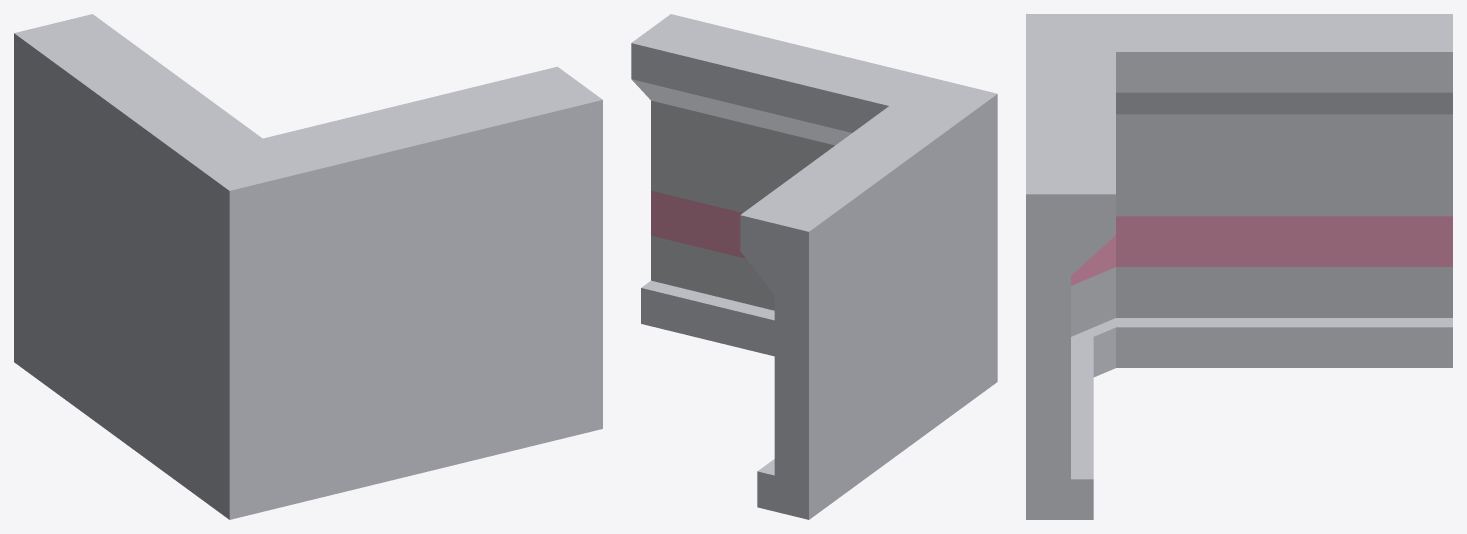
The model's file is space-station-kit--object-009.glb.
3 views of the same model, side by side, from view 1: azimuth 30°, elevation 25°; view 2: azimuth 150°, elevation 25°; view 3: azimuth 270°, elevation 25° (orthographic). The views are drawn at different scales.
Visible parts, largest first — view 1: object_009; view 2: object_009; view 3: object_009.
Part boxes in pixels (x1,y1,x2,y2): object_009: (14,14,602,519); object_009: (631,14,997,519); object_009: (1026,14,1452,519).
Bounding box in the file's own units: 1.19 × 1 × 1.19.
